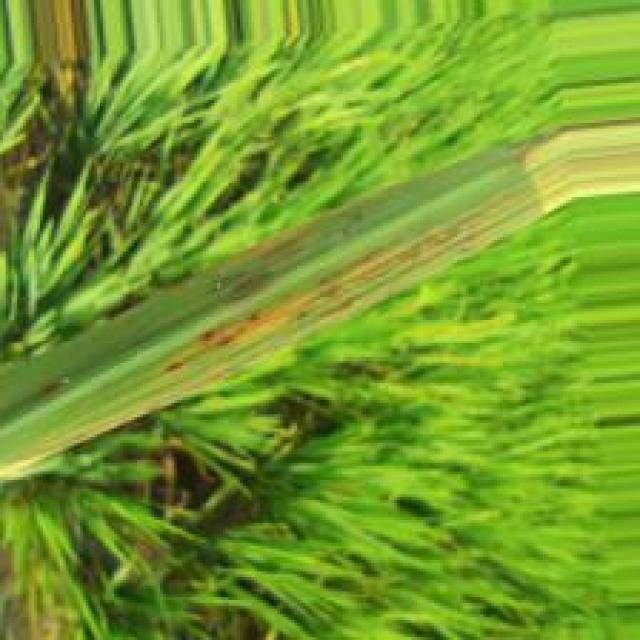Narrow_Brown_Leaf_Spot: (164, 205, 550, 381)
